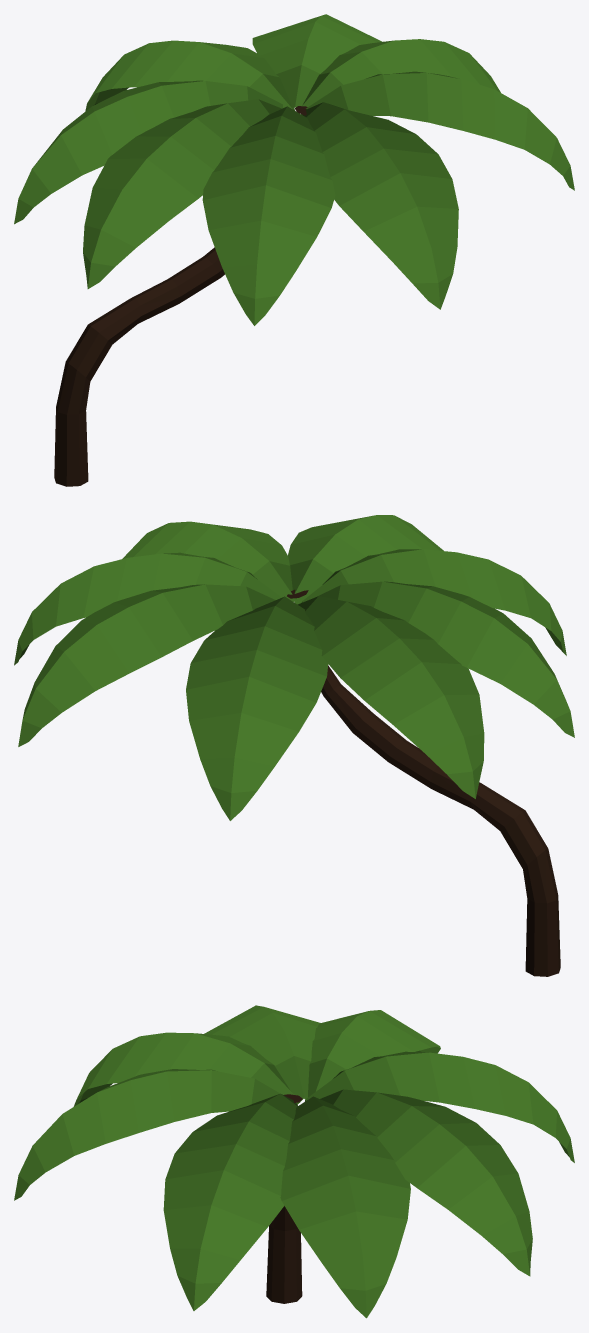
File: Palmera1.fbx
The picture shows the model from 3 angles, top to bottom: view 1: azimuth 30°, elevation 25°; view 2: azimuth 150°, elevation 25°; view 3: azimuth 270°, elevation 25°; orthographic projection. The views are drawn at different scales.
Visible parts, largest first — view 1: Palmera2; view 2: Palmera2; view 3: Palmera2.
Boxes of the visible parts, x1,y1,x2,y2 form: Palmera2: (14,14,574,486); Palmera2: (14,515,574,976); Palmera2: (14,1005,574,1318).
Size of the model in its own units: 406 by 268 by 396.
